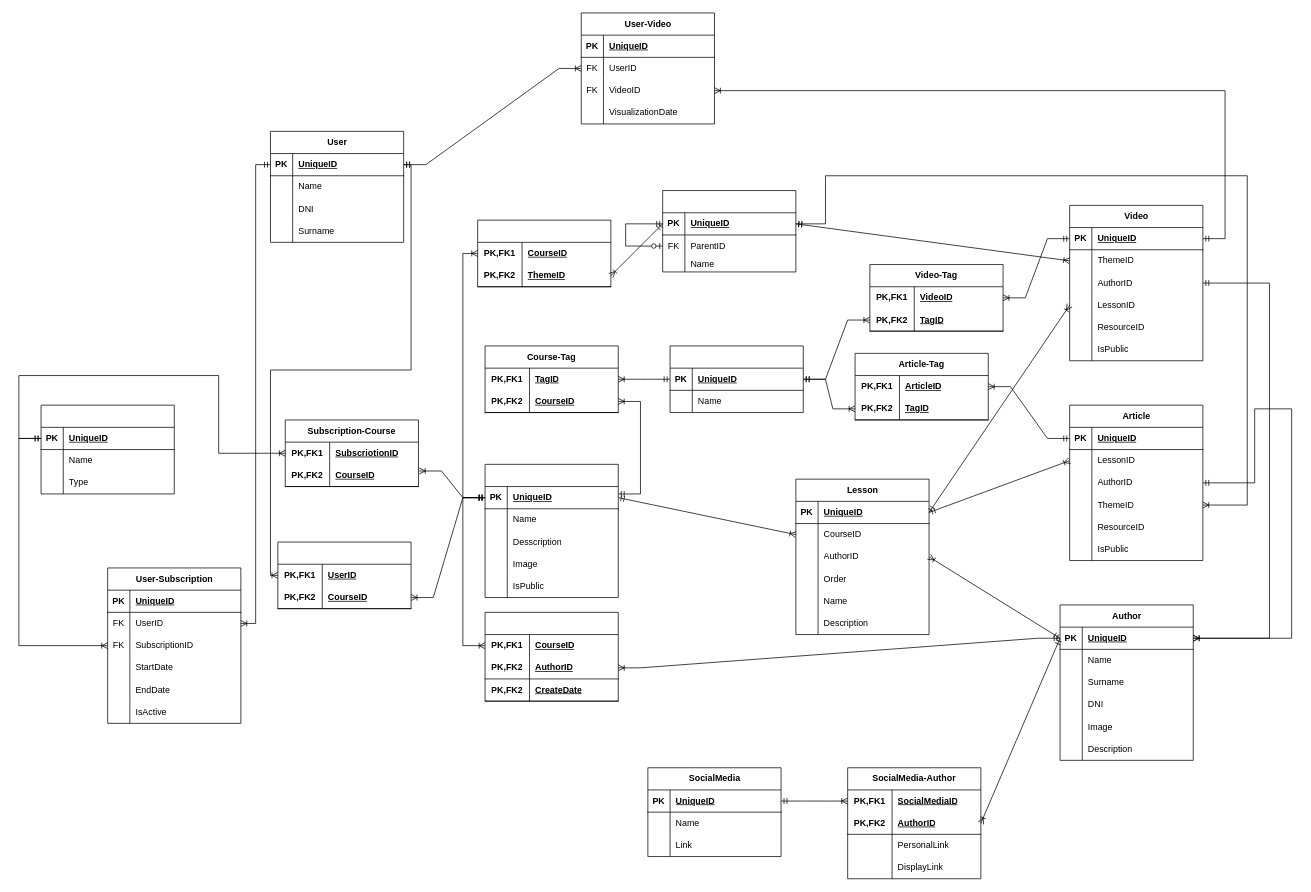
The diagram is 1311 pixels wide and 892 high, and some of its shapes have lost their labels. Each missing label, with the box of its shape:
Course: (484, 464, 618, 598)
Course-Author: (484, 612, 618, 701)
Course-Themes: (477, 219, 611, 287)
Subscription: (40, 404, 174, 494)
Tags: (669, 345, 803, 413)
Themes: (662, 190, 796, 272)
User-Course: (277, 541, 411, 609)
